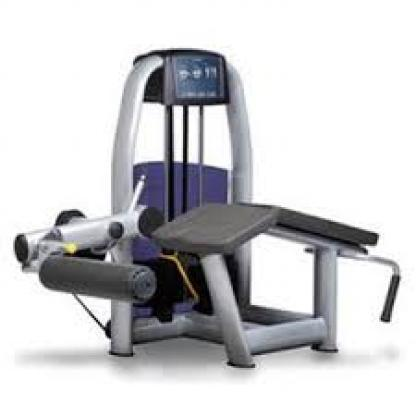reg curl machine: (14, 46, 408, 371)
